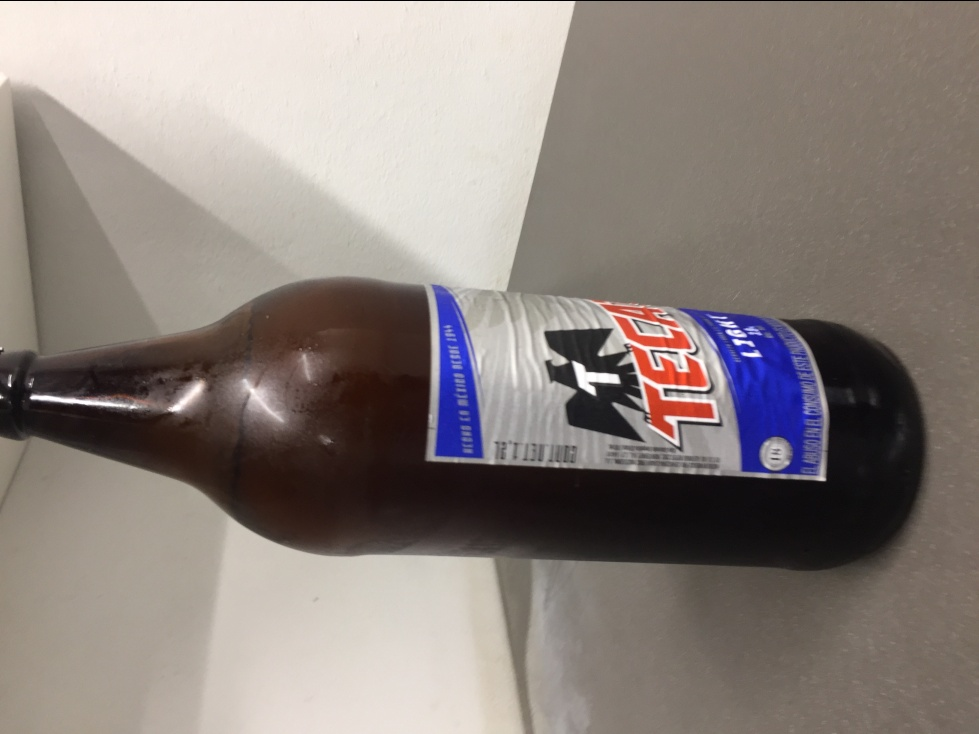tecateC: (8, 276, 919, 578)
